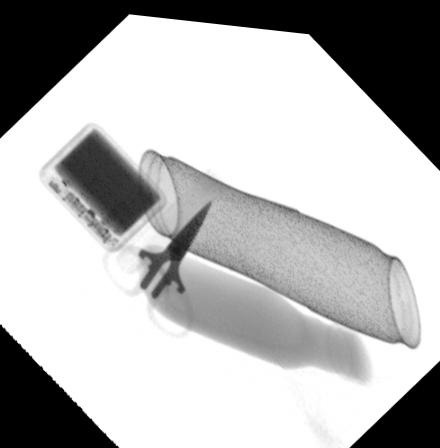Powerbank: (36, 119, 167, 253)
Scissors: (101, 192, 219, 337)
